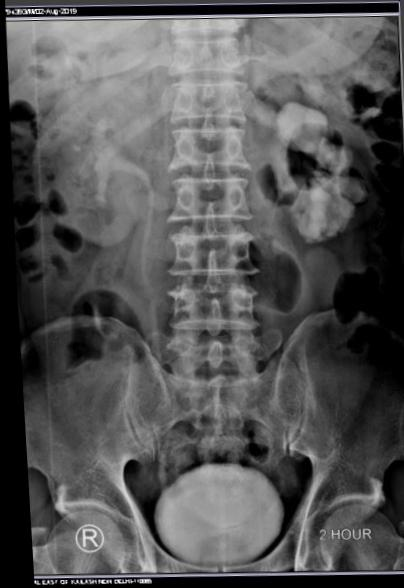bladder: (133, 458, 296, 578)
right kidney: (26, 67, 156, 252)
vertebrae: (171, 116, 263, 173)
